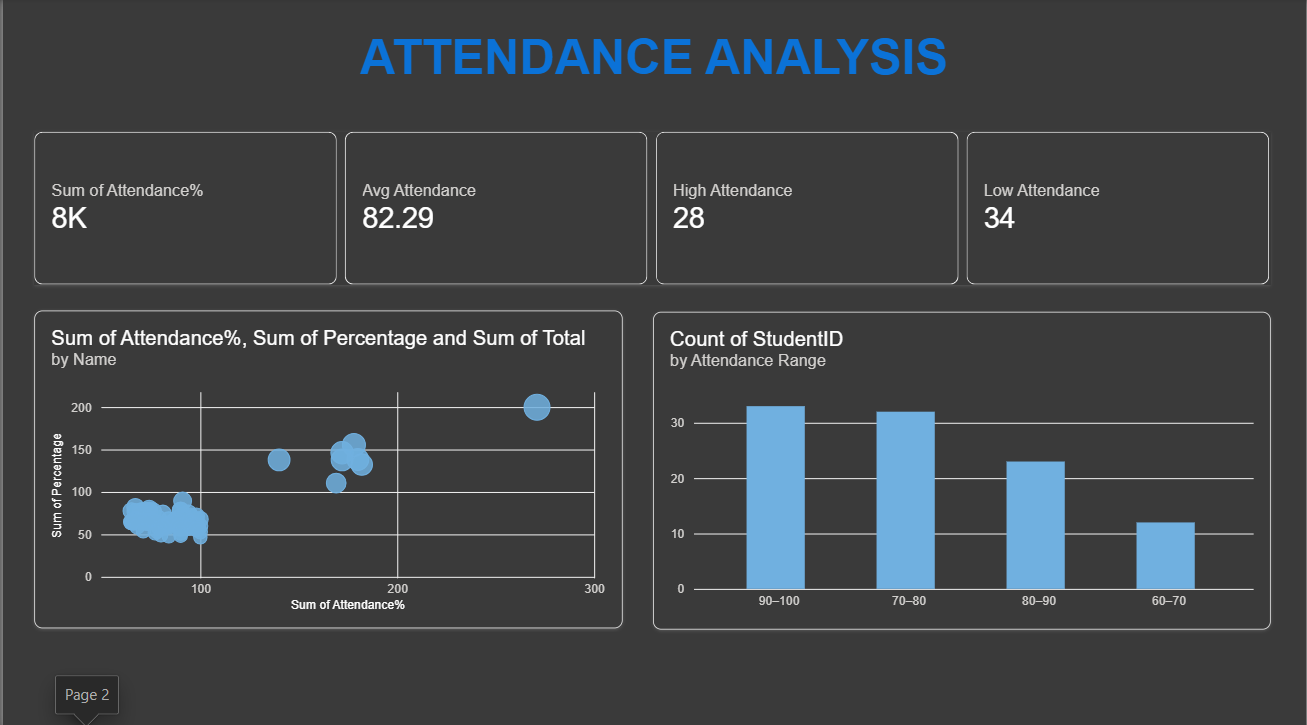

Layout of this report page (visuals, bound fields, positions):
{"tool":"powerbi","page":{"name":"Page 2","canvas":[1280,720],"ordinal":1},"visuals":[{"type":"textbox","box":[33.6,31.1,1211.6,77.1],"z":0},{"type":"cardVisual","fields":{"Data":["Sum(Students.Attendance%)","Students.Avg Attendance","Students.High Attendance","Students.Low Attendance"]},"box":[31.1,131.1,1213.3,150],"z":1000},{"type":"scatterChart","fields":{"Category":["Students.Name"],"Size":["Sum(Students.Total)"],"X":["Sum(Students.Attendance%)"],"Y":["Sum(Students.Percentage)"]},"box":[31.1,306.7,577.8,312.2],"z":2000},{"type":"clusteredColumnChart","fields":{"Category":["Students.Attendance Range"],"Y":["CountNonNull(Students.StudentID)"]},"box":[637.8,307.8,606.7,312.2],"z":3000}]}

Visuals, with their boxes in screenshot pixels (x1, y1, x2, y2), scaled from the page's 1280x720 canvas onto the 1307x725 screenshot:
textbox: {"x1": 34, "y1": 31, "x2": 1271, "y2": 109}
cardVisual - Sum(Students.Attendance%) x Students.Avg Attendance: {"x1": 32, "y1": 132, "x2": 1271, "y2": 283}
scatterChart - Students.Name x Sum(Students.Total): {"x1": 32, "y1": 309, "x2": 622, "y2": 623}
clusteredColumnChart - Students.Attendance Range x CountNonNull(Students.StudentID): {"x1": 651, "y1": 310, "x2": 1271, "y2": 624}
